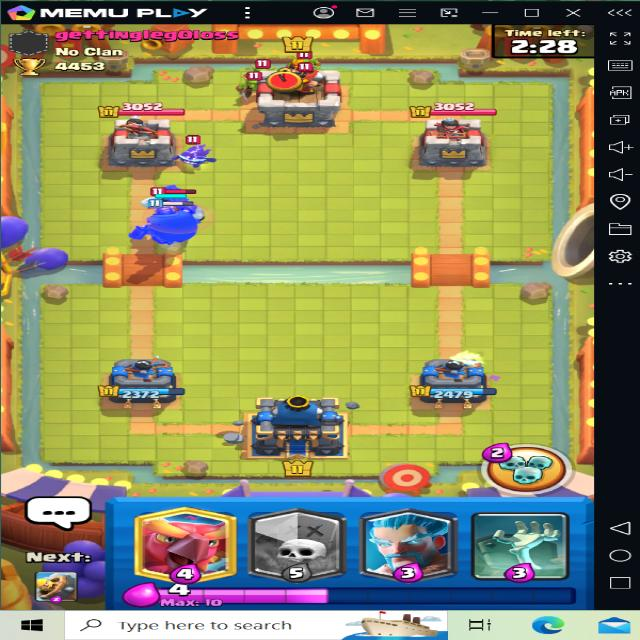electro-spirit: (174, 140, 209, 167)
goblin: (230, 72, 266, 96), (250, 59, 277, 80), (288, 48, 316, 66)
ice-spirit: (140, 182, 210, 223)
